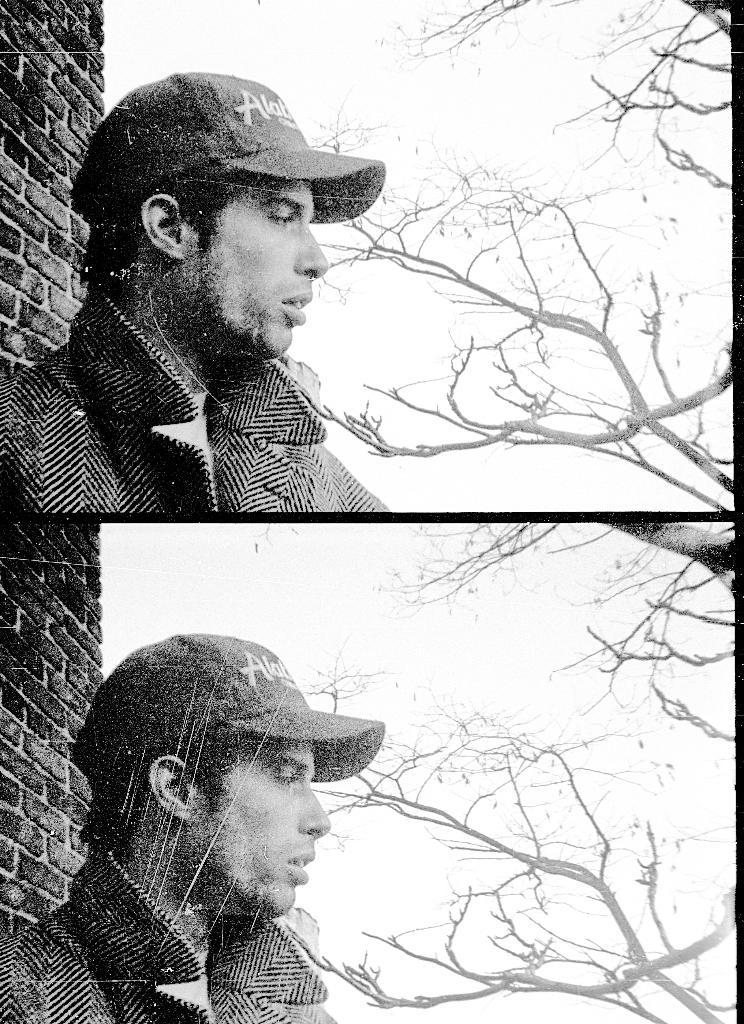Hat: (69, 72, 387, 228), (70, 631, 389, 783)
